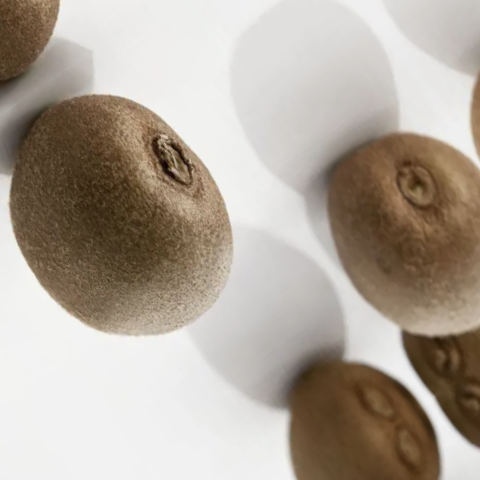kiwi: (0, 30, 301, 407), (259, 80, 480, 387)
